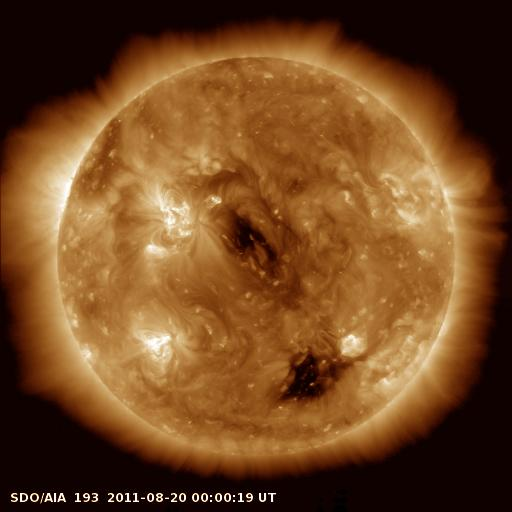coronal_hole: (274, 348, 341, 407), (224, 206, 278, 264)
